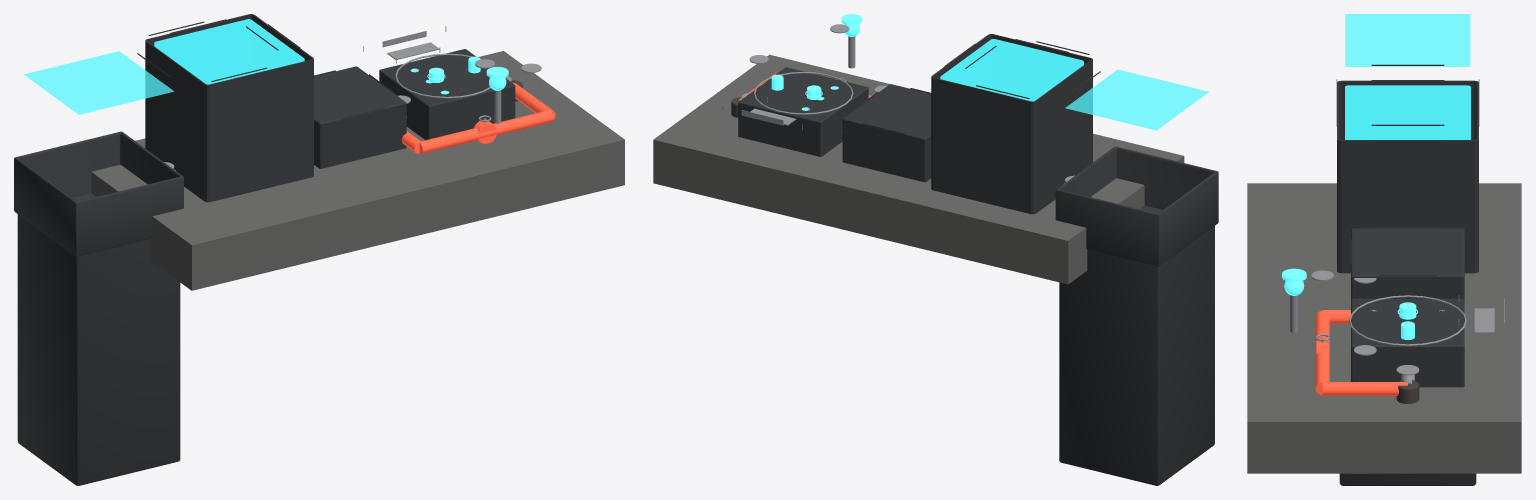
Rendered from ocems-factory.glb.
3 views of the same model, side by side, from view 1: azimuth 30°, elevation 25°; view 2: azimuth 150°, elevation 25°; view 3: azimuth 270°, elevation 25° (orthographic). The views are drawn at different scales.
Visible parts, largest first — view 1: TANK_01, FACTORY_FLOOR, TANK_02, AERATION_TANK, CLARIFIER, WATER_TANK02, WATER_TANK01, PIPE_BYPASS; view 2: TANK_01, FACTORY_FLOOR, TANK_02, AERATION_TANK, CLARIFIER, WATER_TANK02, WATER_TANK01; view 3: FACTORY_FLOOR, TANK_02, CLARIFIER, AERATION_TANK, WATER_TANK02, WATER_TANK01, TANK_01, PIPE_BYPASS_EXIT, PIPE_BYPASS, CLARIFIER_RIM_RAIL, SENSOR_PLATFORM, DISCHARGE_POINT (+2 smaller).
Boxes of the visible parts, x1=… form: TANK_01: x1=14, y1=131, x2=183, y2=485; FACTORY_FLOOR: x1=91, y1=51, x2=624, y2=290; TANK_02: x1=145, y1=14, x2=313, y2=202; AERATION_TANK: x1=314, y1=66, x2=406, y2=168; CLARIFIER: x1=379, y1=49, x2=515, y2=140; WATER_TANK02: x1=154, y1=19, x2=304, y2=84; WATER_TANK01: x1=24, y1=51, x2=173, y2=114; PIPE_BYPASS: x1=419, y1=110, x2=553, y2=153; TANK_01: x1=1055, y1=146, x2=1218, y2=485; FACTORY_FLOOR: x1=653, y1=54, x2=1184, y2=284; TANK_02: x1=931, y1=34, x2=1092, y2=214; AERATION_TANK: x1=842, y1=84, x2=931, y2=182; CLARIFIER: x1=738, y1=67, x2=868, y2=156; WATER_TANK02: x1=940, y1=39, x2=1083, y2=101; WATER_TANK01: x1=1065, y1=69, x2=1209, y2=130; FACTORY_FLOOR: x1=1247, y1=183, x2=1521, y2=473; TANK_02: x1=1337, y1=80, x2=1478, y2=273; CLARIFIER: x1=1351, y1=298, x2=1464, y2=387; AERATION_TANK: x1=1351, y1=228, x2=1464, y2=299; WATER_TANK02: x1=1345, y1=85, x2=1470, y2=139; WATER_TANK01: x1=1345, y1=14, x2=1470, y2=66; TANK_01: x1=1339, y1=473, x2=1476, y2=485; PIPE_BYPASS_EXIT: x1=1322, y1=382, x2=1407, y2=395; PIPE_BYPASS: x1=1315, y1=310, x2=1329, y2=395; CLARIFIER_RIM_RAIL: x1=1349, y1=295, x2=1466, y2=346; SENSOR_PLATFORM: x1=1474, y1=308, x2=1494, y2=333; DISCHARGE_POINT: x1=1396, y1=380, x2=1419, y2=403.
Size of the model in its own units: 23.4 by 16.46 by 9.65.
